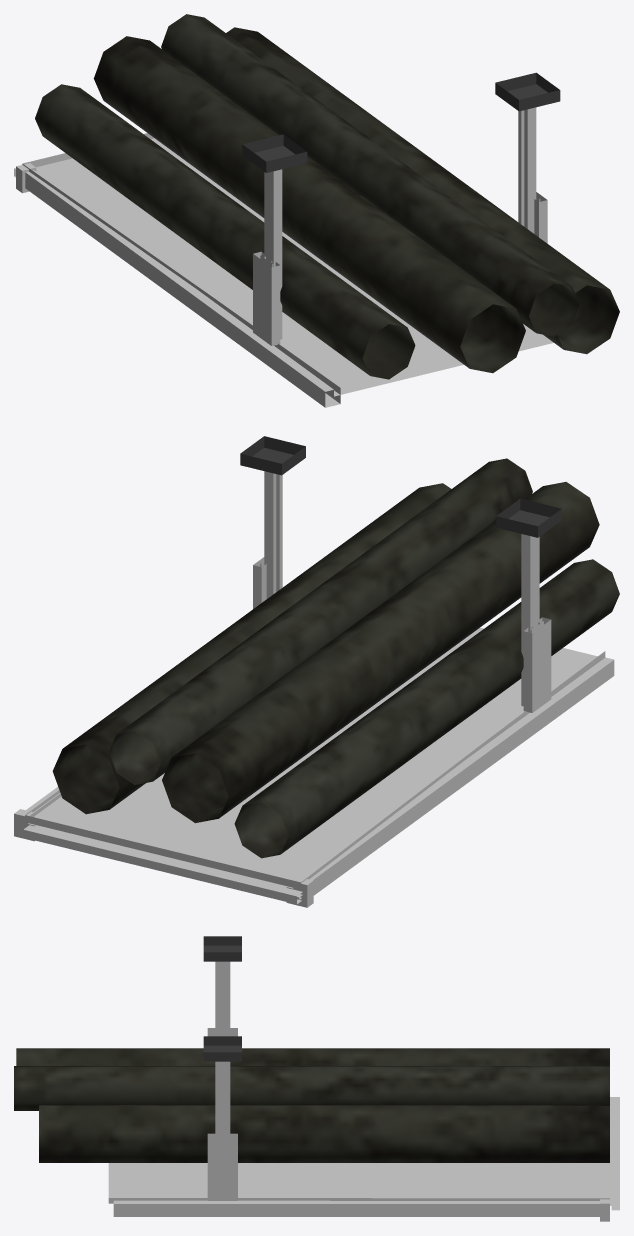
Rendered from ceiling_pipes_right_intersection.fbx.
The picture shows the model from 3 angles, top to bottom: view 1: azimuth 30°, elevation 25°; view 2: azimuth 150°, elevation 25°; view 3: azimuth 270°, elevation 25°; orthographic projection. The views are drawn at different scales.
Visible parts, largest first — view 1: ceiling_pipes_right_intersection; view 2: ceiling_pipes_right_intersection; view 3: ceiling_pipes_right_intersection.
Boxes of the visible parts, box(x1,y1,x2,y2) form: ceiling_pipes_right_intersection: box(14, 14, 619, 407); ceiling_pipes_right_intersection: box(14, 436, 619, 907); ceiling_pipes_right_intersection: box(14, 936, 619, 1221).
Size of the model in its own units: 65.58 by 44.92 by 144.
